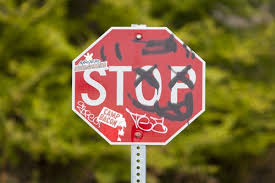stop: (71, 24, 207, 148)
